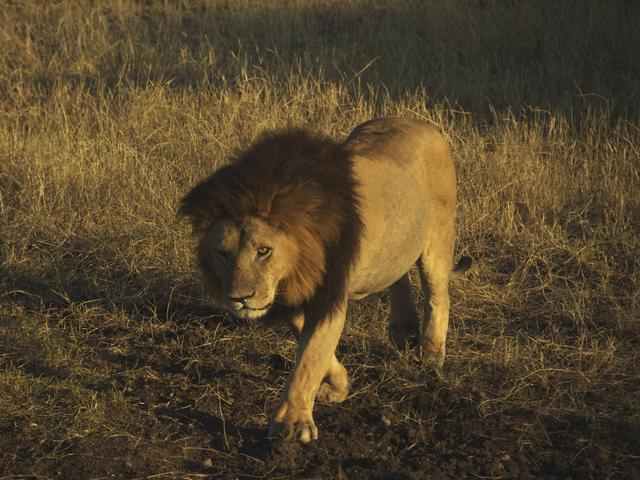lion: (176, 67, 481, 443)
